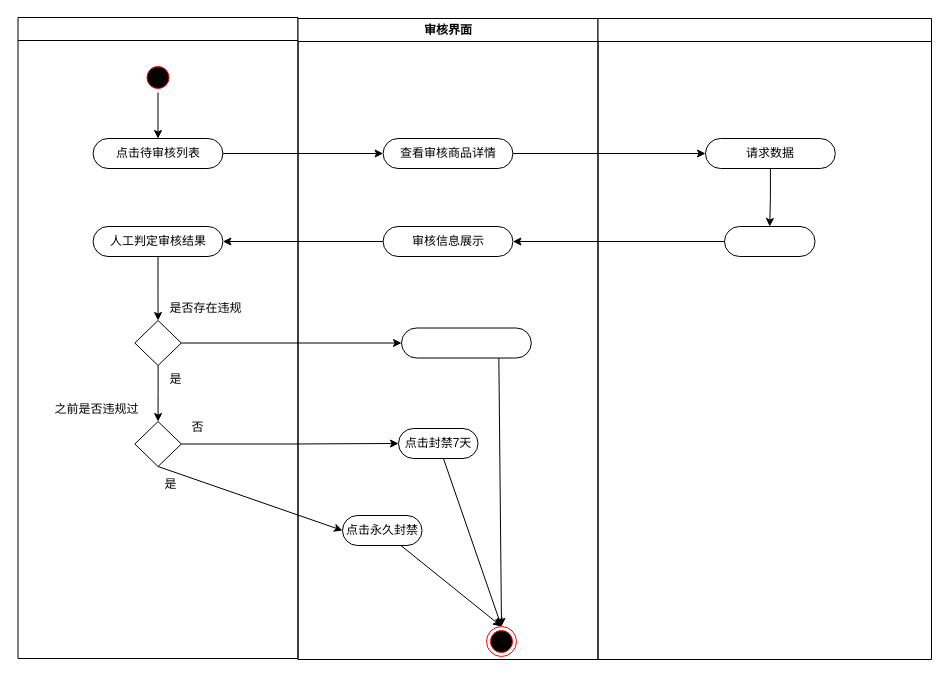
The diagram is 949 pixels wide and 677 high, and some of its shapes have lost their labels. The shapes that lost their labels are listed below. From the top down, each one's box as (x1, y1, x2, y2) in pixels, then its label:
(724, 226, 815, 256): 查找数据
(17, 16, 298, 658): 审核员
(400, 327, 531, 358): 点击不做处理按钮
(597, 18, 932, 660): 数据库
